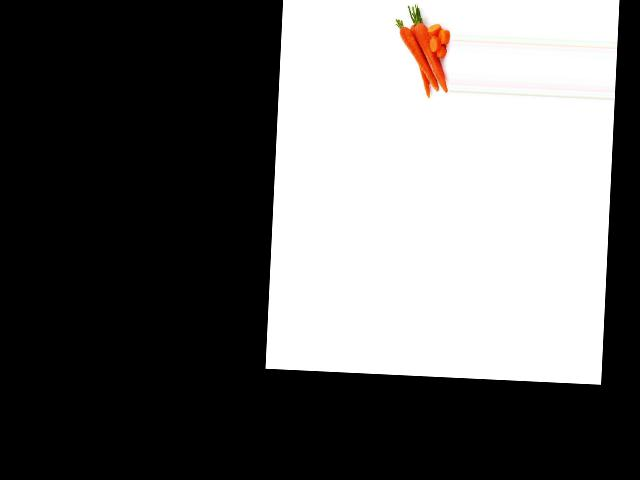carrot: (410, 14, 451, 92)
